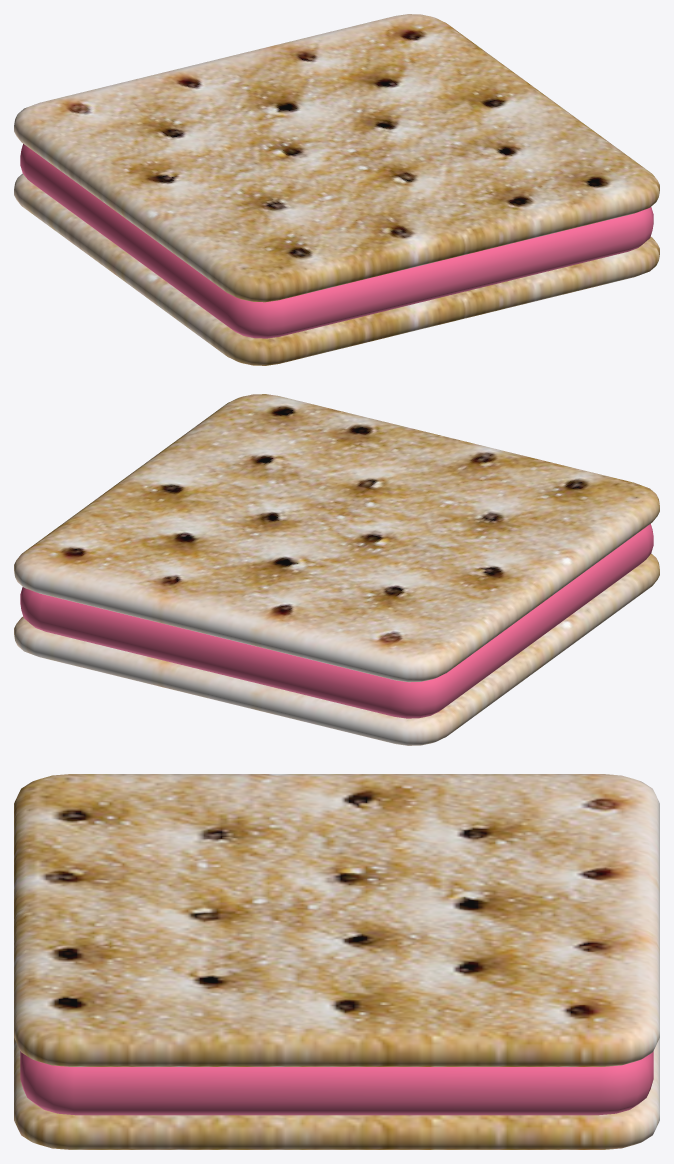
File: candy_waf_30.fbx
3 renders of one model, top to bottom at view 1: azimuth 30°, elevation 25°; view 2: azimuth 150°, elevation 25°; view 3: azimuth 270°, elevation 25°, orthographic. The views are drawn at different scales.
Visible parts, largest first — view 1: c_w_30; view 2: c_w_30; view 3: c_w_30.
Part boxes in pixels (bbox=[...]): c_w_30: bbox=[14, 14, 659, 365]; c_w_30: bbox=[14, 394, 659, 745]; c_w_30: bbox=[14, 774, 659, 1149].
Size of the model in its own units: 179 by 35.68 by 179.
